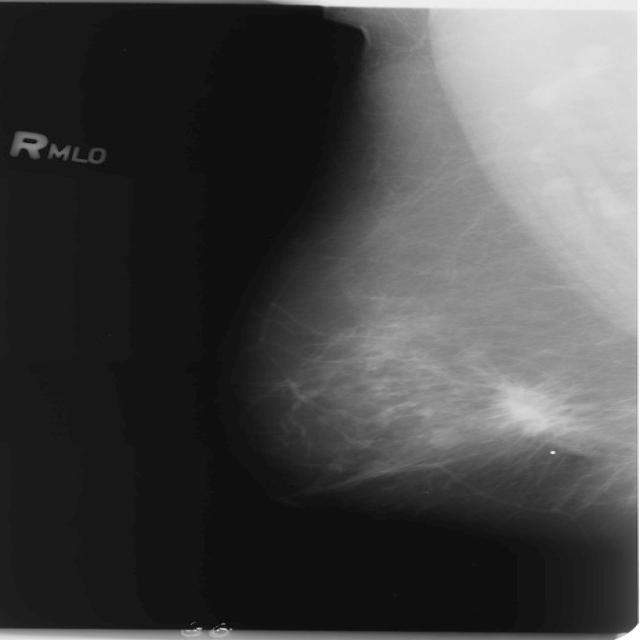tumour: (498, 381, 562, 435), (427, 426, 462, 450)
